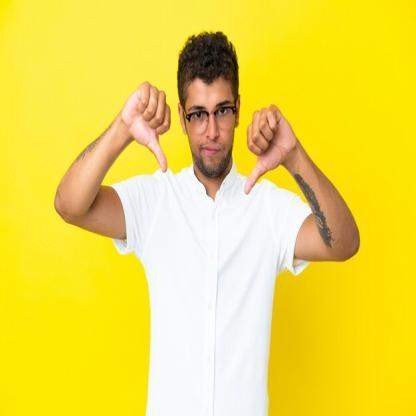thumb_down: (120, 75, 175, 176), (242, 98, 297, 198)
